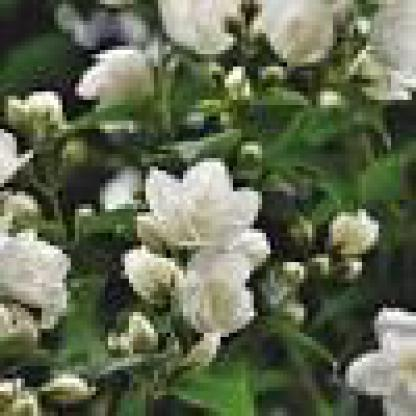Melati: (109, 155, 263, 342), (255, 1, 325, 72), (55, 34, 147, 80)
